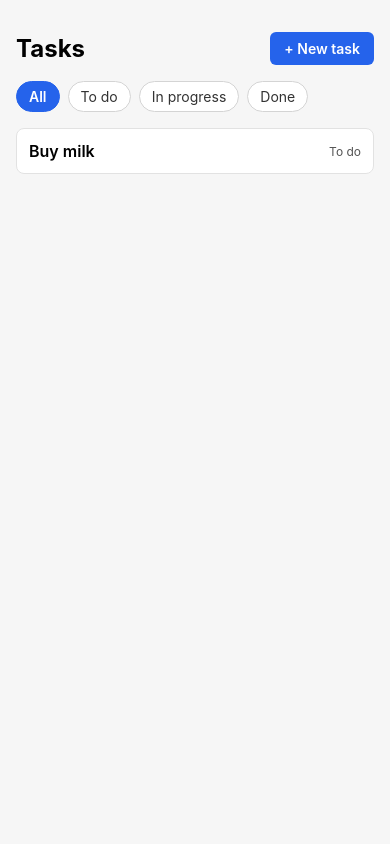
Scenario: TasksScreen › refreshes the list after saving an edit
Click the text "Buy milk" at (62,151), box [29,141,95,161]
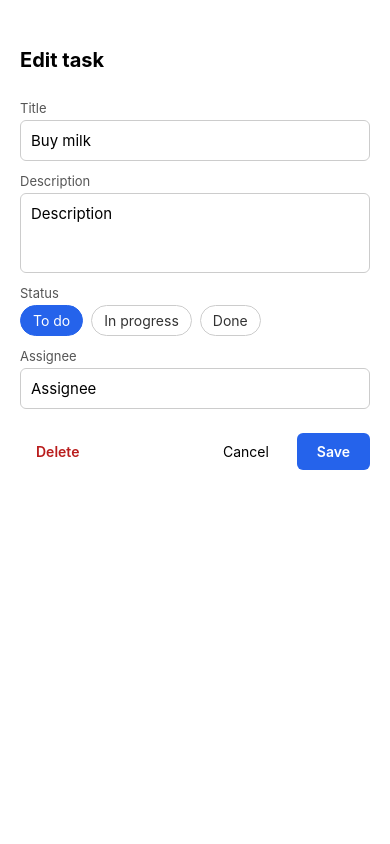
Check: the text "Edit task" is shown, box [20,48,104,72]
Replace the text in the field showing "Buy milk" with "Buy oat milk" at (195,140), box [20,120,370,161]
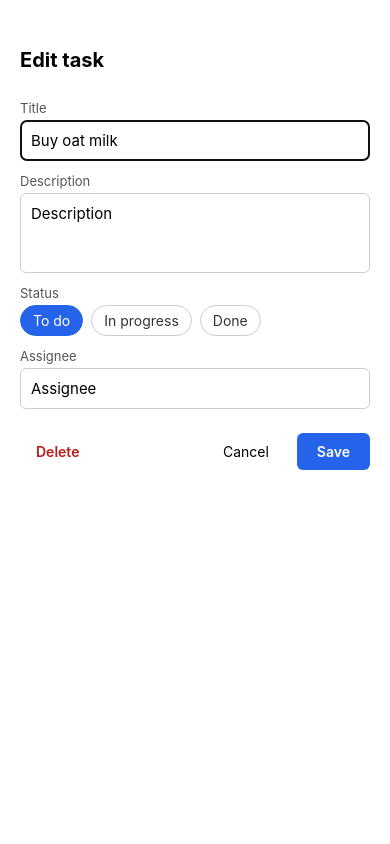
Click the text "Save" at (333,452), box [317,443,350,460]
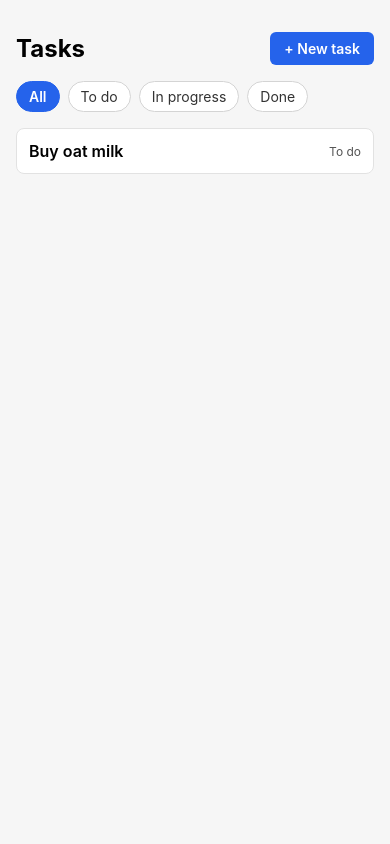
Check: the text "Buy oat milk" is shown, box [29,141,124,161]
Check: the text "Edit task" is gone
